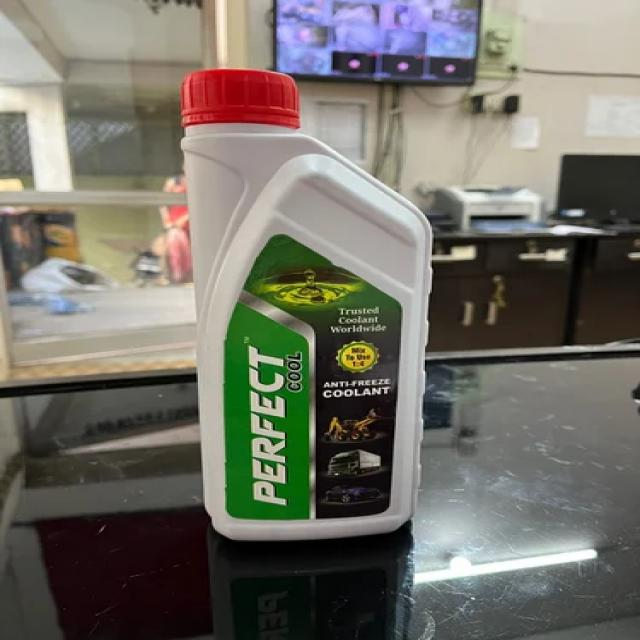coolant: (164, 60, 437, 542)
